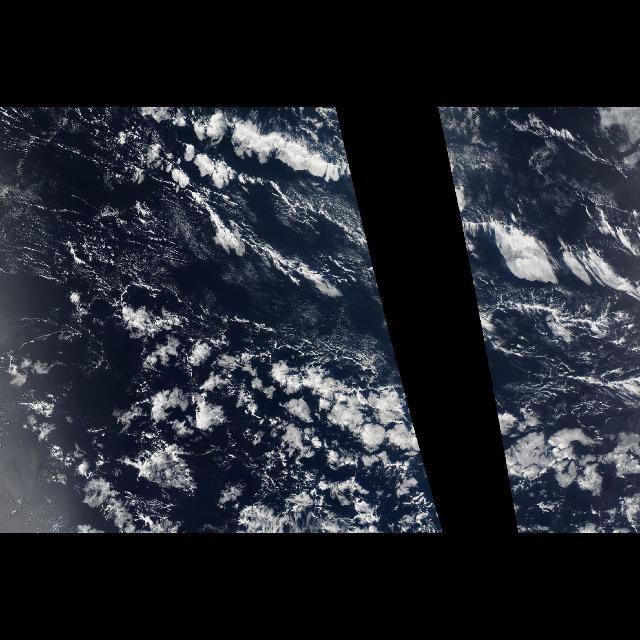Flower: (130, 337, 428, 471)
